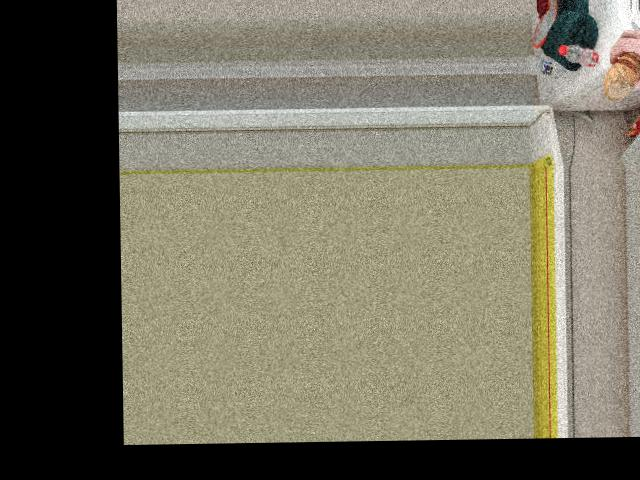sweet_potato: (600, 55, 640, 99)
